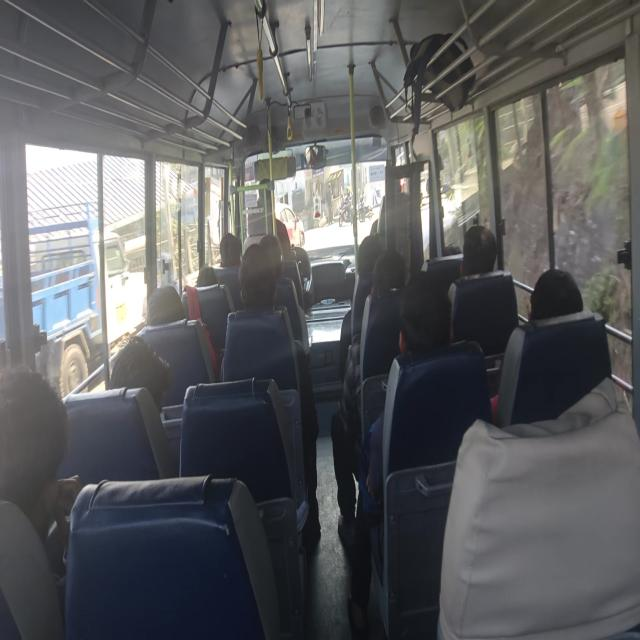person: (436, 268, 639, 638), (346, 273, 454, 636), (220, 244, 320, 544), (331, 248, 407, 548), (0, 364, 82, 571), (490, 267, 584, 423), (109, 335, 172, 412), (447, 224, 497, 308), (528, 268, 584, 320), (146, 285, 186, 325), (219, 232, 242, 267), (196, 264, 218, 286), (325, 182, 334, 224)
